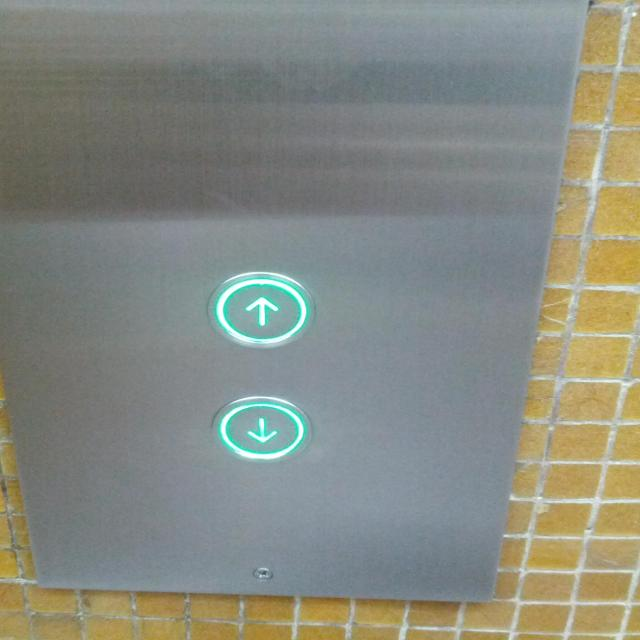down: (207, 392, 315, 466)
up: (204, 267, 318, 353)
